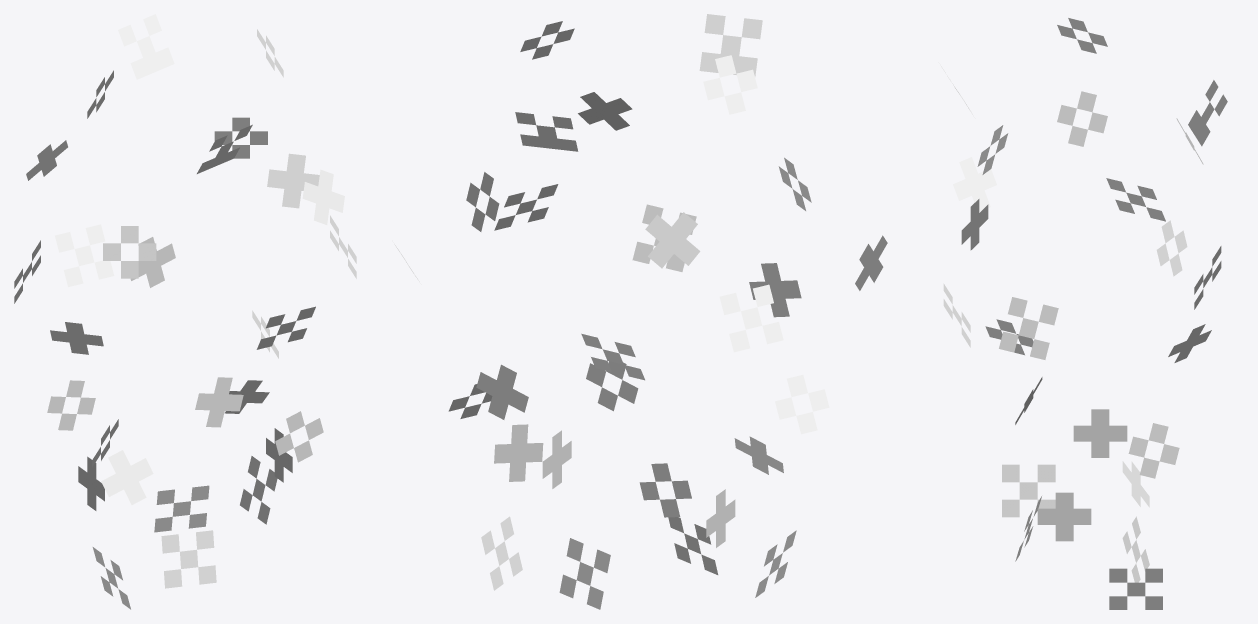
The model's file is sl_legacy_snow_particles.glb.
3 views of the same model, side by side, from view 1: azimuth 30°, elevation 25°; view 2: azimuth 150°, elevation 25°; view 3: azimuth 270°, elevation 25° (orthographic). The views are drawn at different scales.
Parts seen in each view (by area): view 1: bb_legacy_snow_particles; view 2: bb_legacy_snow_particles; view 3: bb_legacy_snow_particles.
Part boxes in pixels (box(x1,y1,x2,y2)): bb_legacy_snow_particles: box(14, 14, 356, 609); bb_legacy_snow_particles: box(394, 14, 887, 609); bb_legacy_snow_particles: box(941, 18, 1227, 609).
Size of the model in its own units: 1.51 by 1.95 by 1.12.
1 material, 1 textured.
